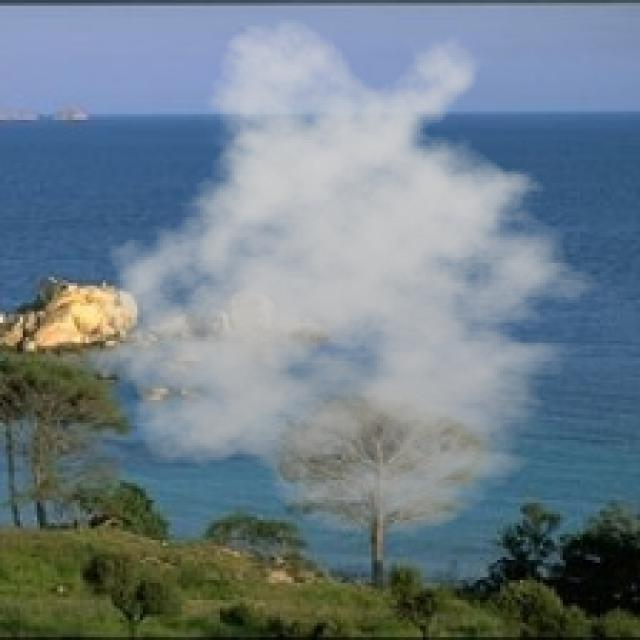smoke: (74, 17, 626, 537)
